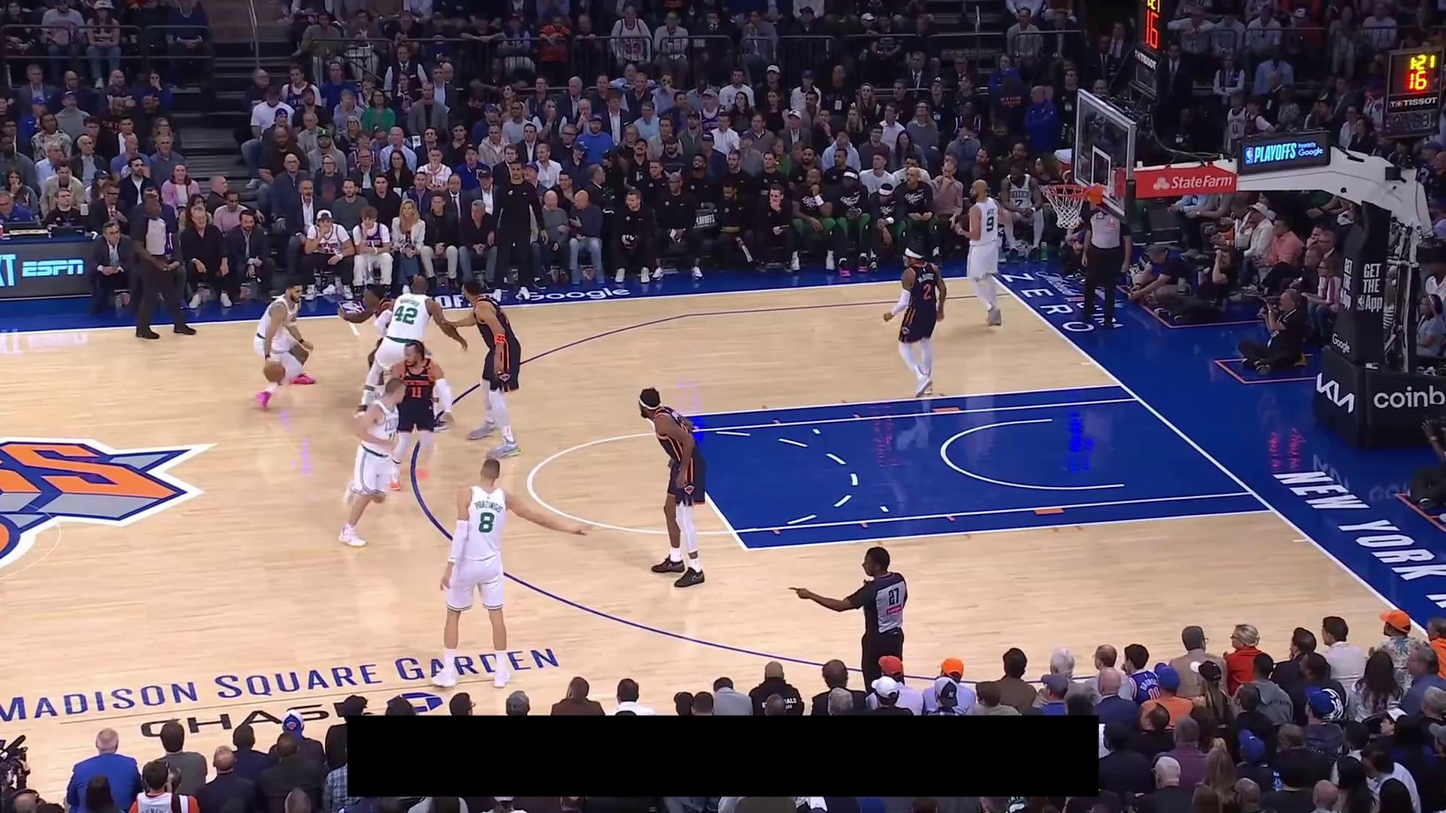ball: (263, 361, 285, 382)
number: (393, 305, 418, 325), (478, 511, 496, 533), (409, 385, 423, 399), (985, 215, 995, 233), (922, 283, 932, 301)
player: (429, 457, 595, 690), (351, 275, 468, 432), (637, 385, 710, 589), (444, 276, 523, 460), (339, 378, 407, 548), (882, 243, 949, 397), (388, 340, 452, 492), (955, 178, 1013, 327), (337, 282, 395, 398)
player-in-possession: (253, 277, 317, 412)
referee: (795, 546, 908, 696), (132, 194, 198, 340), (1079, 202, 1133, 327)
rim: (1043, 184, 1088, 197)
